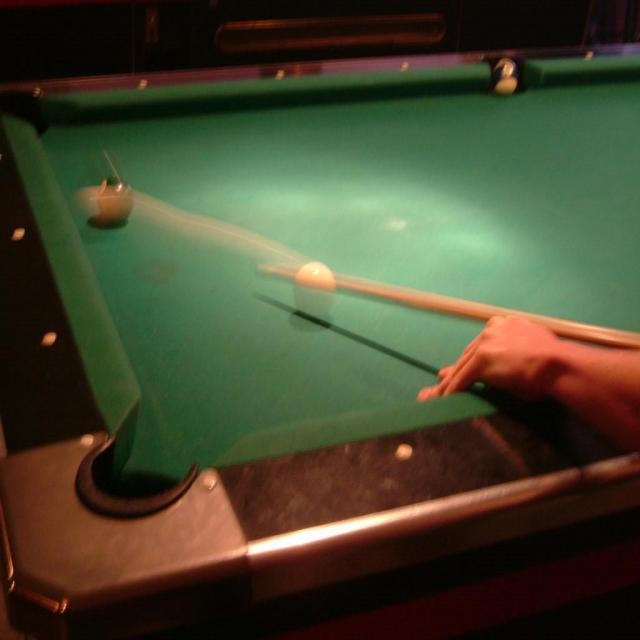Ball: (293, 261, 336, 317)
Billiard table: (0, 44, 640, 640)
